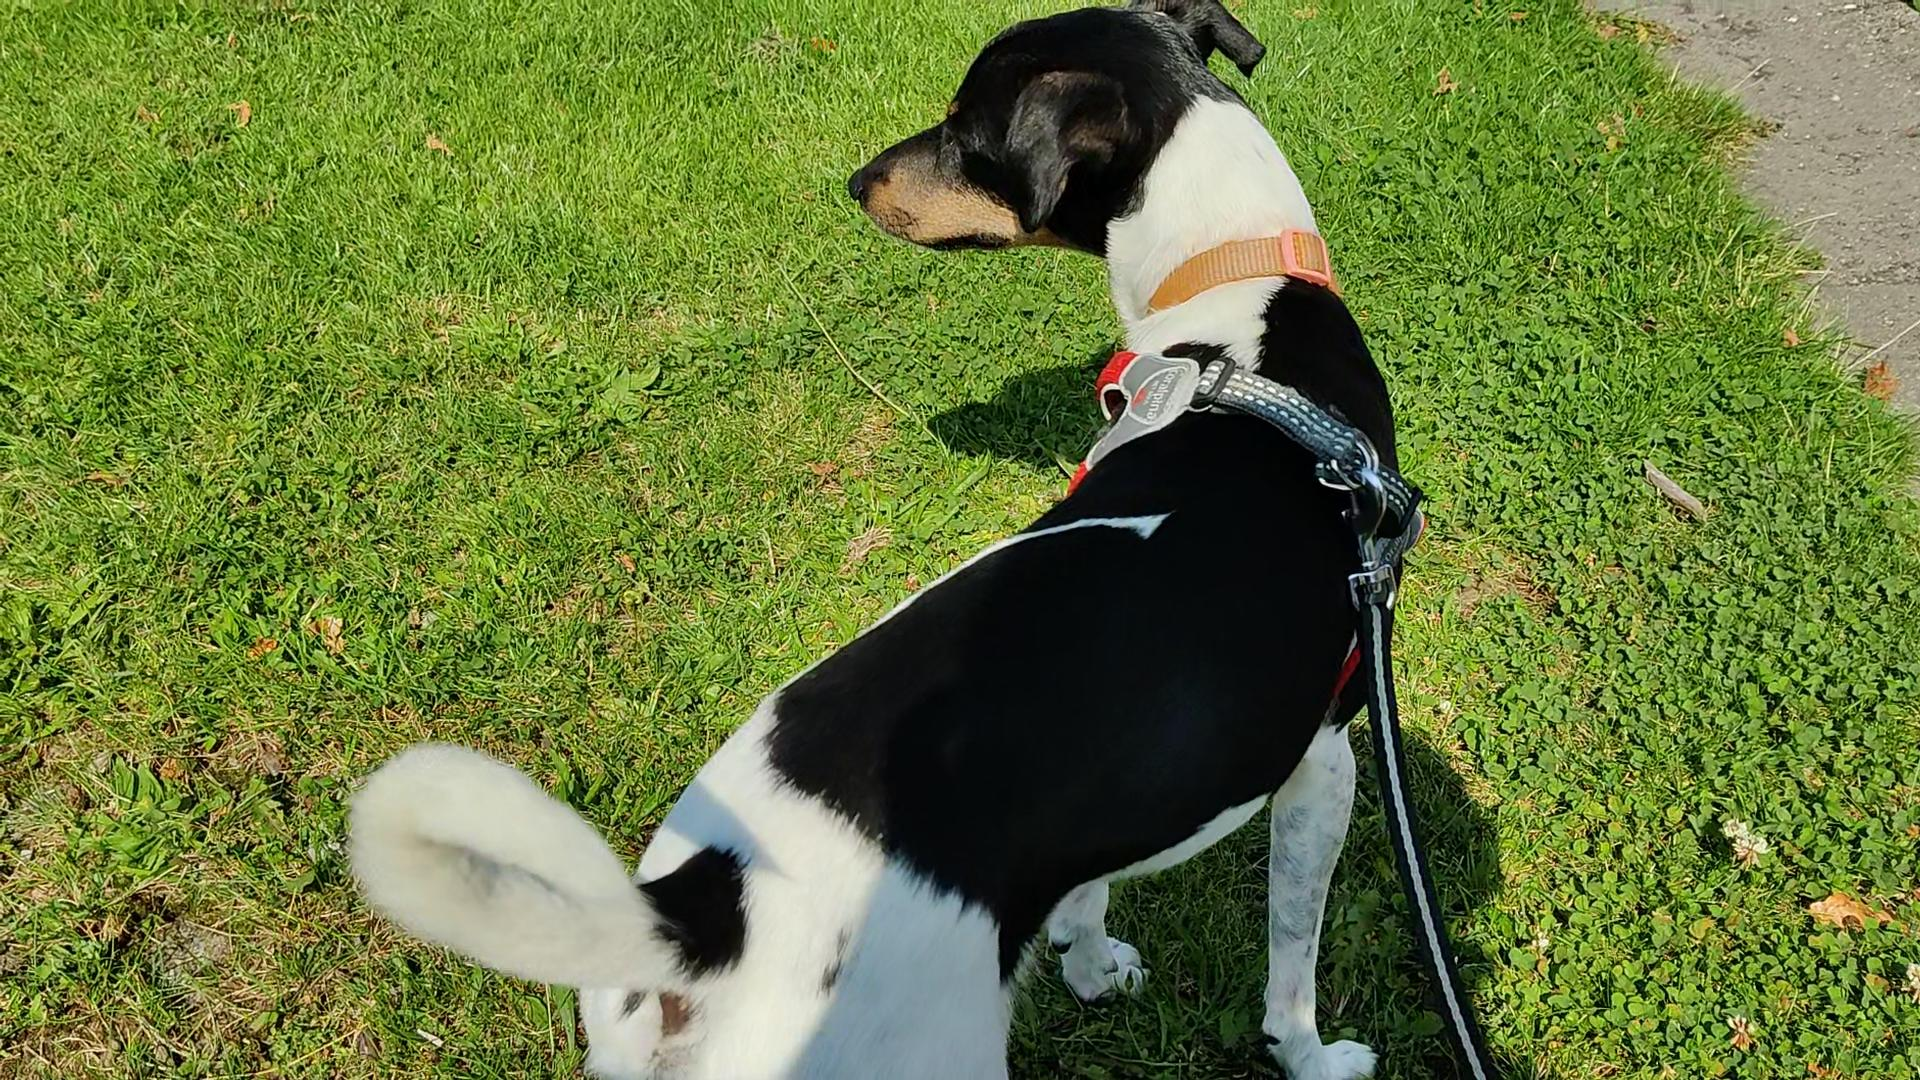Dog: (347, 0, 1427, 1079)
